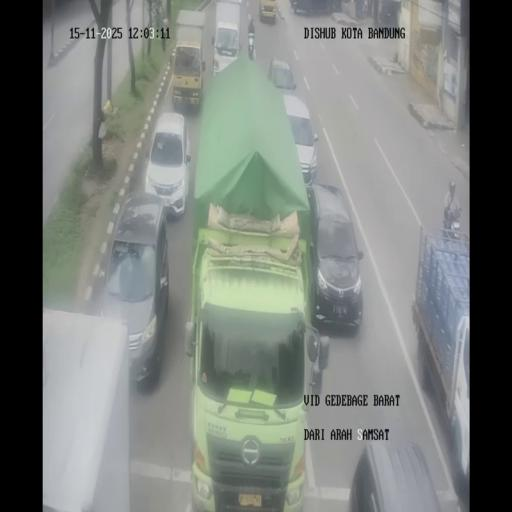3: (184, 58, 321, 509), (414, 228, 469, 494), (172, 9, 206, 113), (212, 0, 243, 76), (291, 0, 337, 16)
car: (98, 193, 172, 389), (306, 183, 364, 332), (144, 111, 192, 220), (276, 93, 316, 186)
truck: (442, 202, 460, 239), (248, 30, 255, 60)
